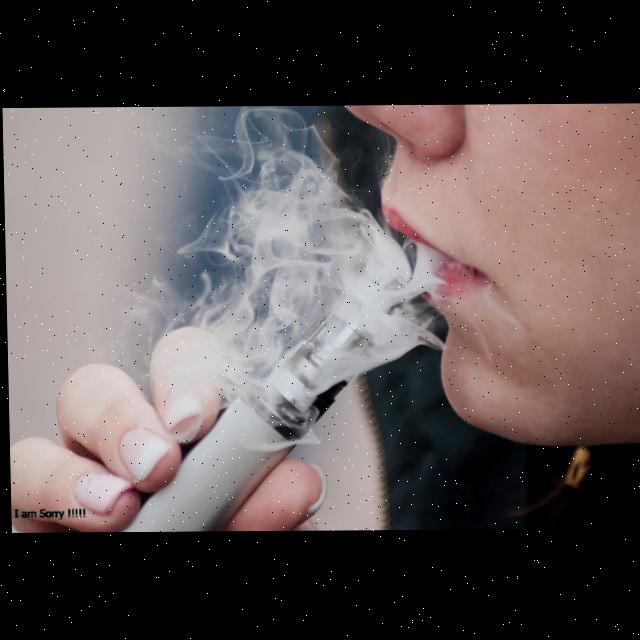vape: (120, 310, 375, 531)
